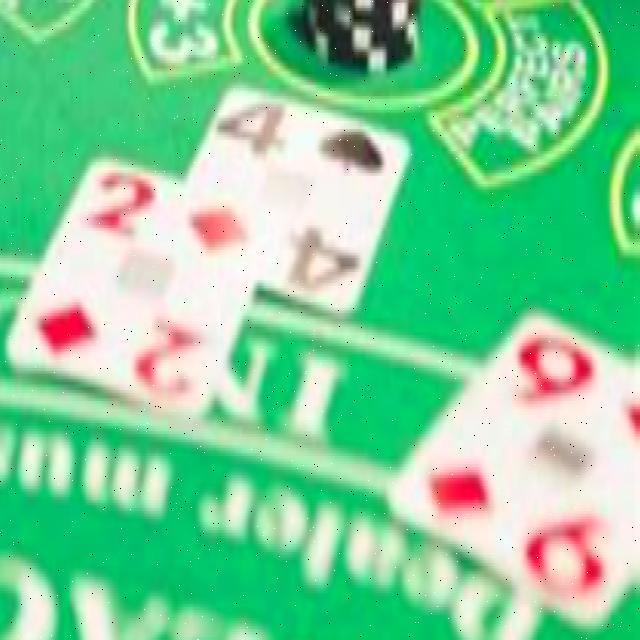Card-2: (7, 157, 252, 419)
Card-4: (165, 80, 410, 318)
Card-9: (387, 306, 639, 628)
